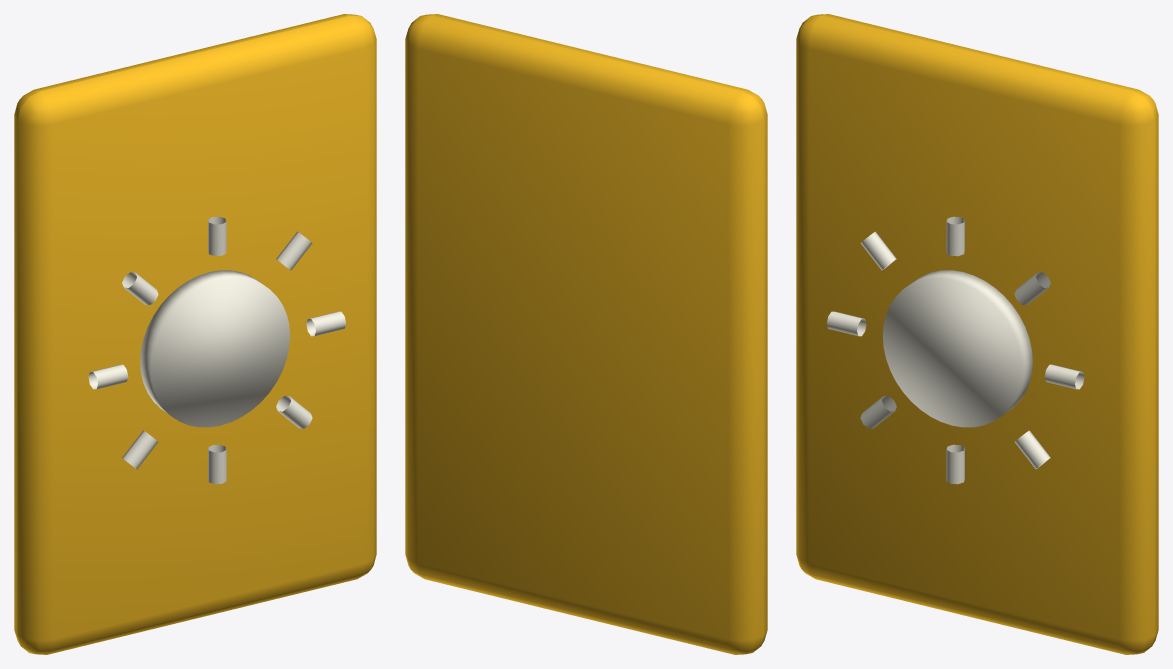
The model's file is card_sun.glb.
3 views of the same model, side by side, from view 1: azimuth 30°, elevation 25°; view 2: azimuth 150°, elevation 25°; view 3: azimuth 330°, elevation 25° (orthographic).
Visible parts, largest first — view 1: card_sun; view 2: card_sun; view 3: card_sun.
Boxes of the visible parts, <box> form: card_sun: <box>14,14,376,654</box>; card_sun: <box>405,14,767,654</box>; card_sun: <box>796,14,1158,654</box>.
Size of the model in its own units: 0.47 by 0.71 by 0.091.
